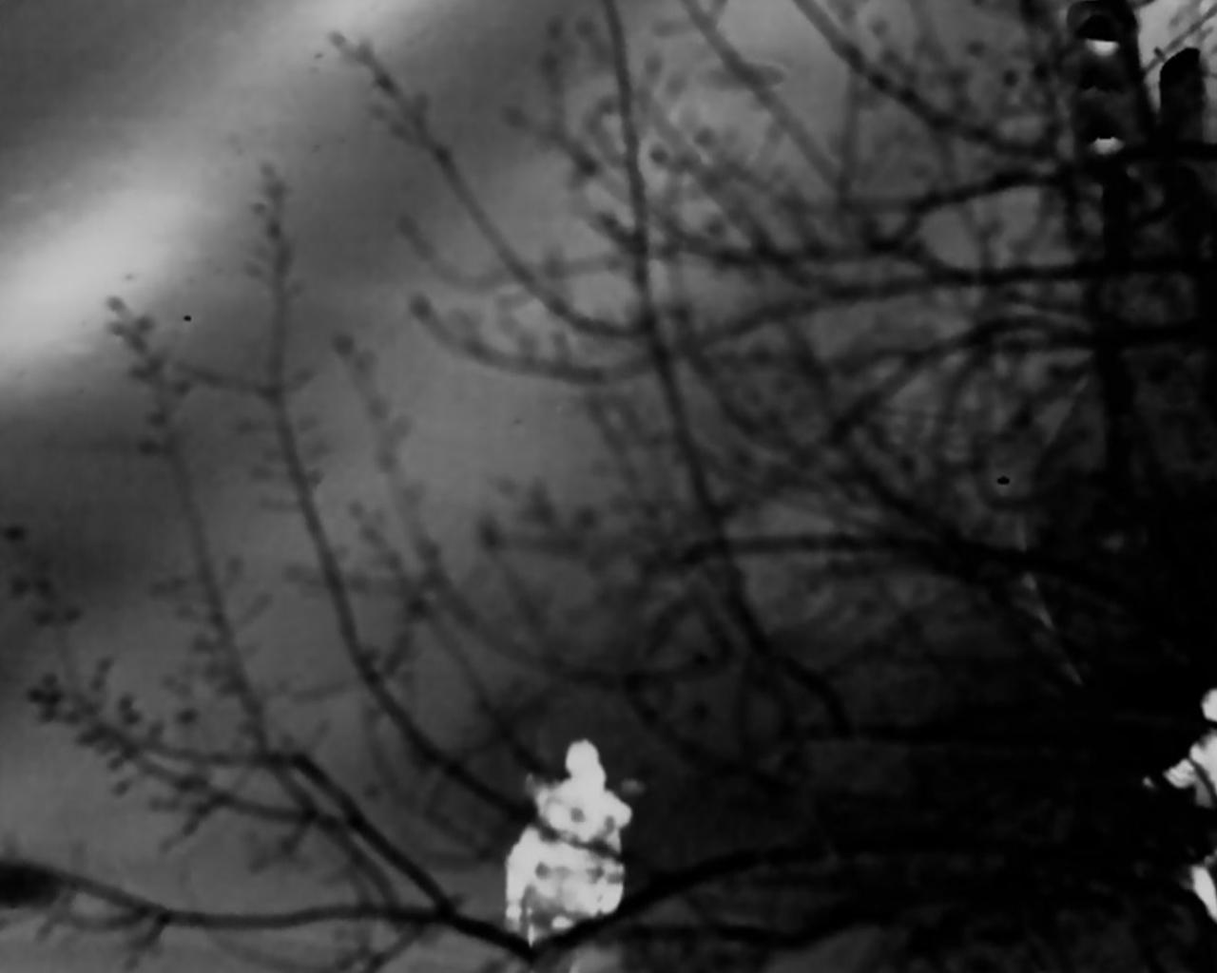person: (515, 742, 633, 961)
